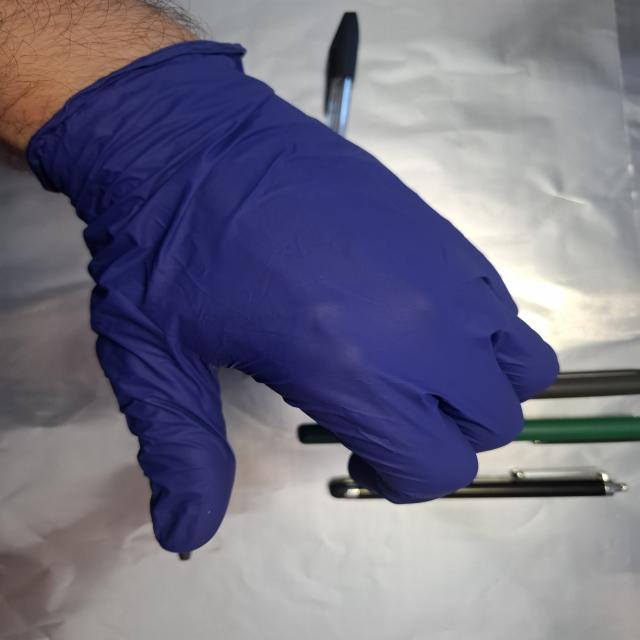glove_on: (30, 37, 563, 555)
